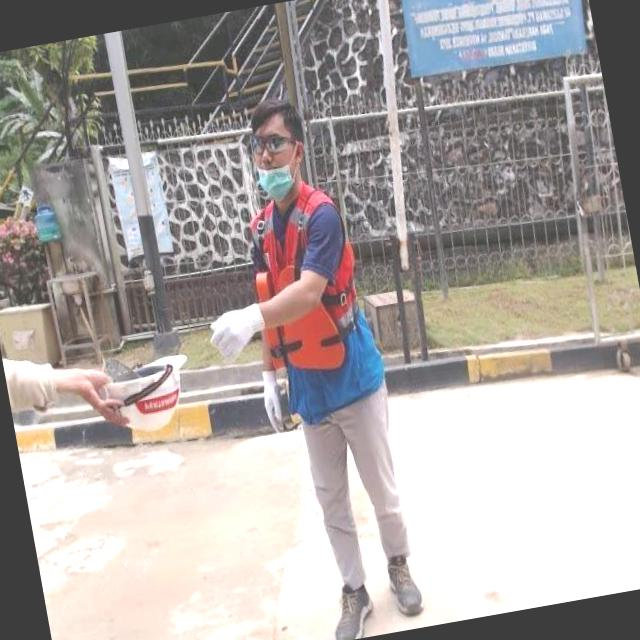vest: (236, 174, 393, 424)
